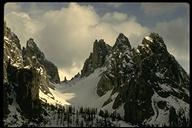cloud: (44, 2, 95, 43)
mountain: (1, 26, 191, 125)
sky: (143, 5, 187, 26)
snow: (59, 86, 93, 101)
